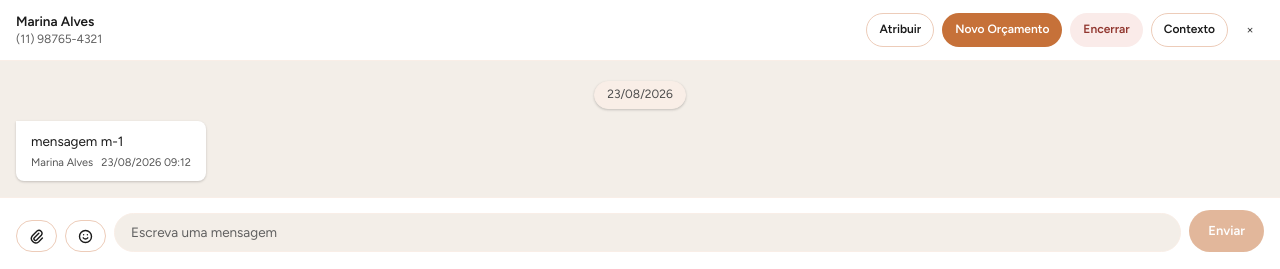
Test: ConversationPanel — menu de transferência › conversa livre: botão "Atribuir" e nenhuma opção de devolver à fila
Click the button "Atribuir" at (900, 30), box [866,13,934,47]
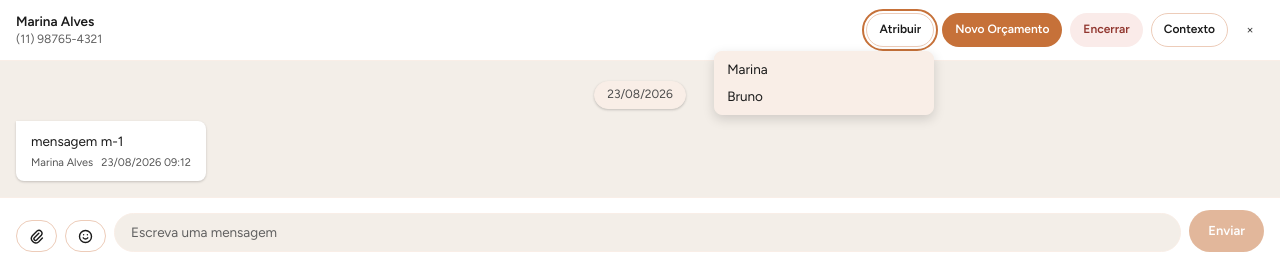
Result: the menu item "Marina" is shown at [715,56,933,83]
